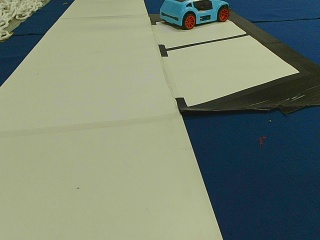car: (160, 0, 229, 28)
